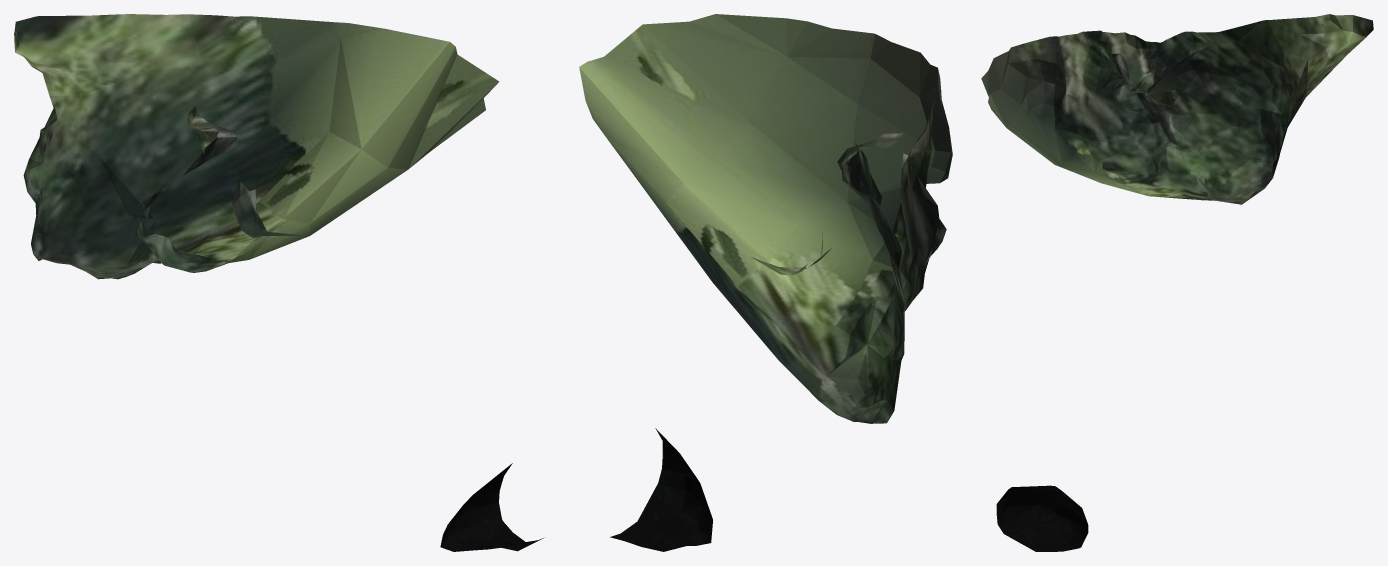
The picture shows the model from 3 angles, left to right: view 1: azimuth 30°, elevation 25°; view 2: azimuth 150°, elevation 25°; view 3: azimuth 270°, elevation 25°; orthographic projection. The views are drawn at different scales.
Size of the model in its own units: 16.23 by 19.39 by 17.28.
2 materials, 2 textured.
